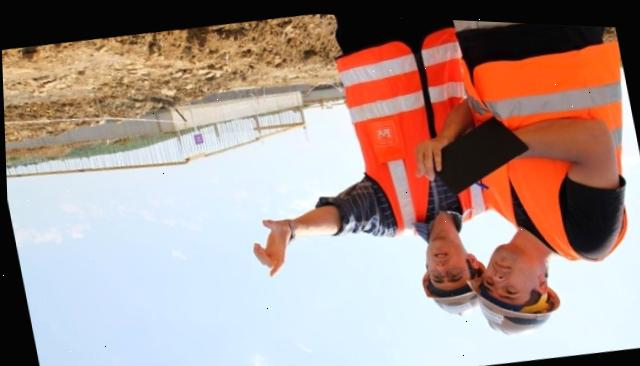helmet: (464, 258, 560, 338), (415, 259, 491, 321)
vest: (457, 27, 640, 270), (328, 11, 505, 245)
